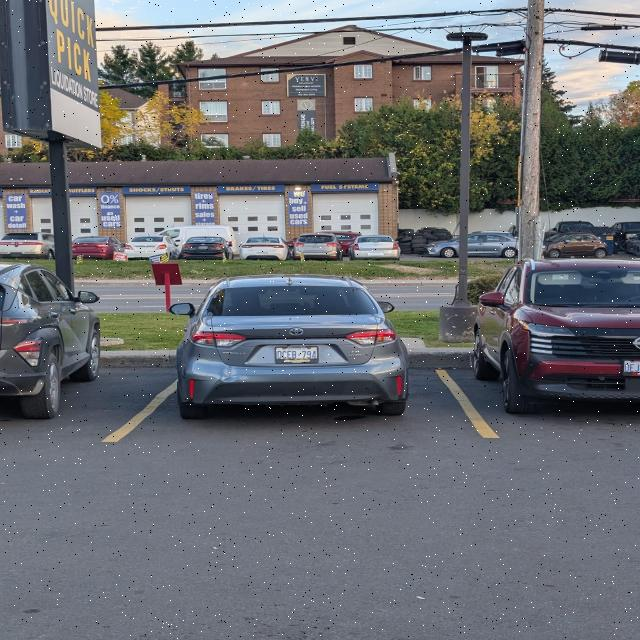plaque: (275, 346, 318, 364), (623, 360, 639, 376), (368, 251, 384, 256), (198, 245, 207, 249), (256, 252, 268, 255)
